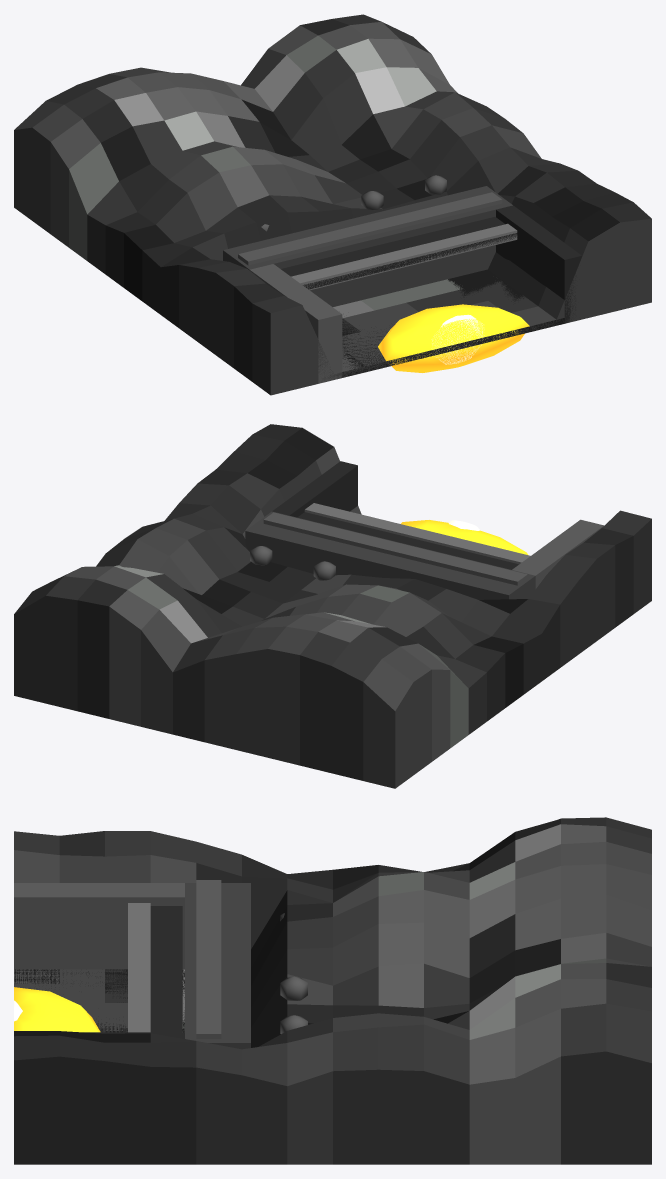
Rendered from newshg-153-f4.glb.
3 renders of one model, top to bottom at view 1: azimuth 30°, elevation 25°; view 2: azimuth 150°, elevation 25°; view 3: azimuth 270°, elevation 25°, orthographic. The views are drawn at different scales.
Visible parts, largest first — view 1: newshg-153.003; view 2: newshg-153.003; view 3: newshg-153.003.
Boxes of the visible parts, <box> form: newshg-153.003: <box>14,14,651,395</box>; newshg-153.003: <box>14,424,651,788</box>; newshg-153.003: <box>14,817,651,1164</box>.
Bounding box in the file's own units: 2 × 0.6911 × 2.33.
